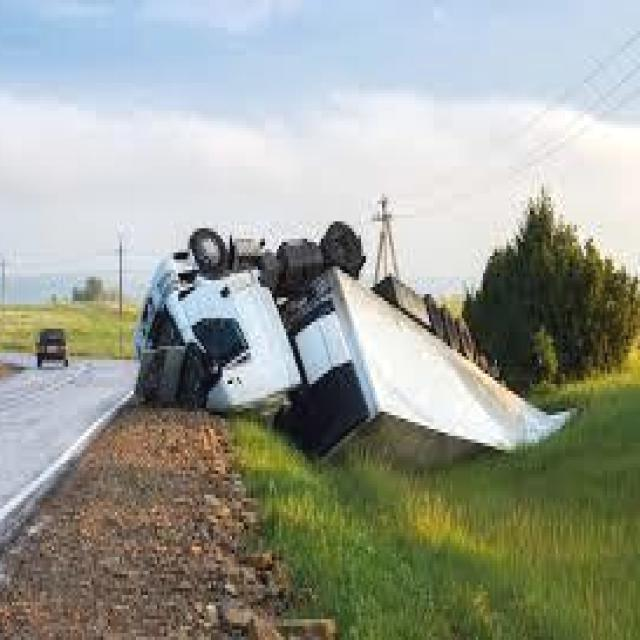accident: (133, 217, 581, 483)
